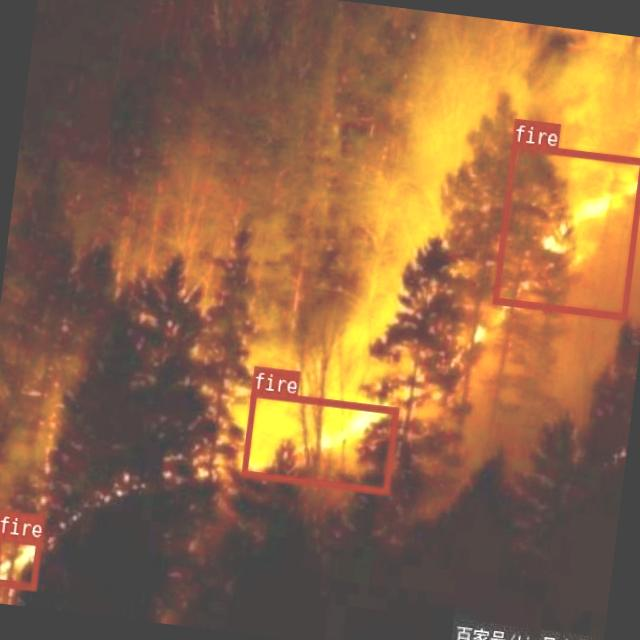fire: (491, 140, 640, 318), (240, 389, 398, 493), (0, 531, 41, 588)
